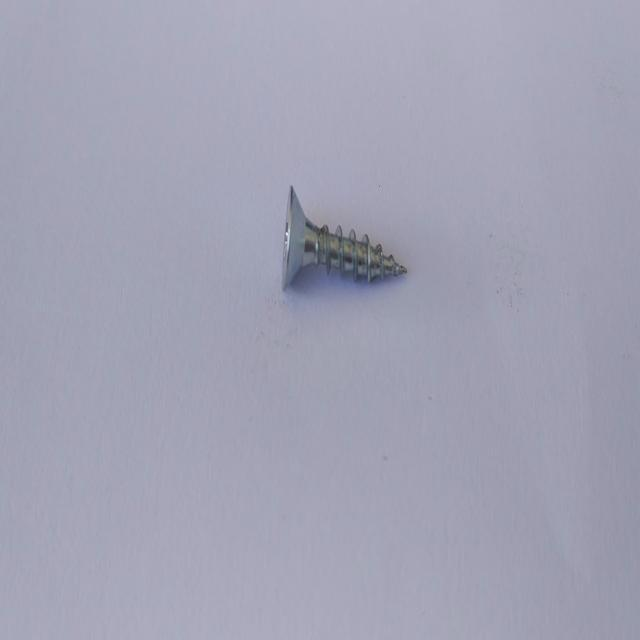Screw: (282, 185, 407, 289)
